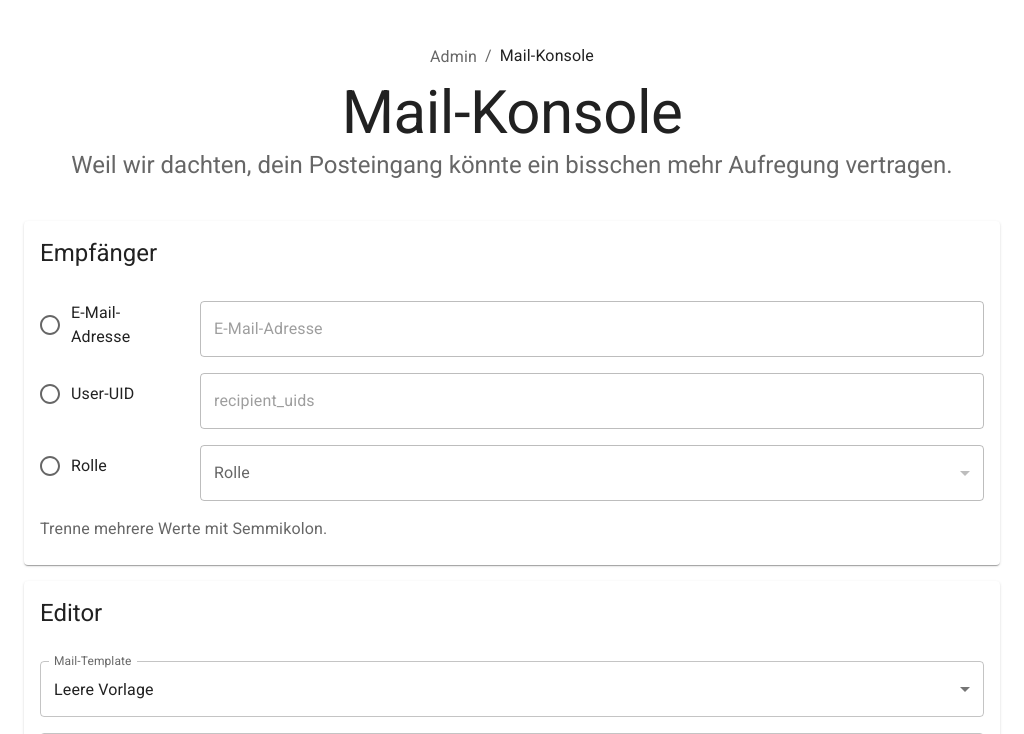
Test case: MailConsolePage — Abmelde-Footer und Titel › Bei einer Rolle ist die Checkbox gesperrt, bei E-Mail/UID wählbar
This screenshot has width=1024, height=734.
Click the radio button labelled "Rolle": (72,466) [38, 454, 107, 478]
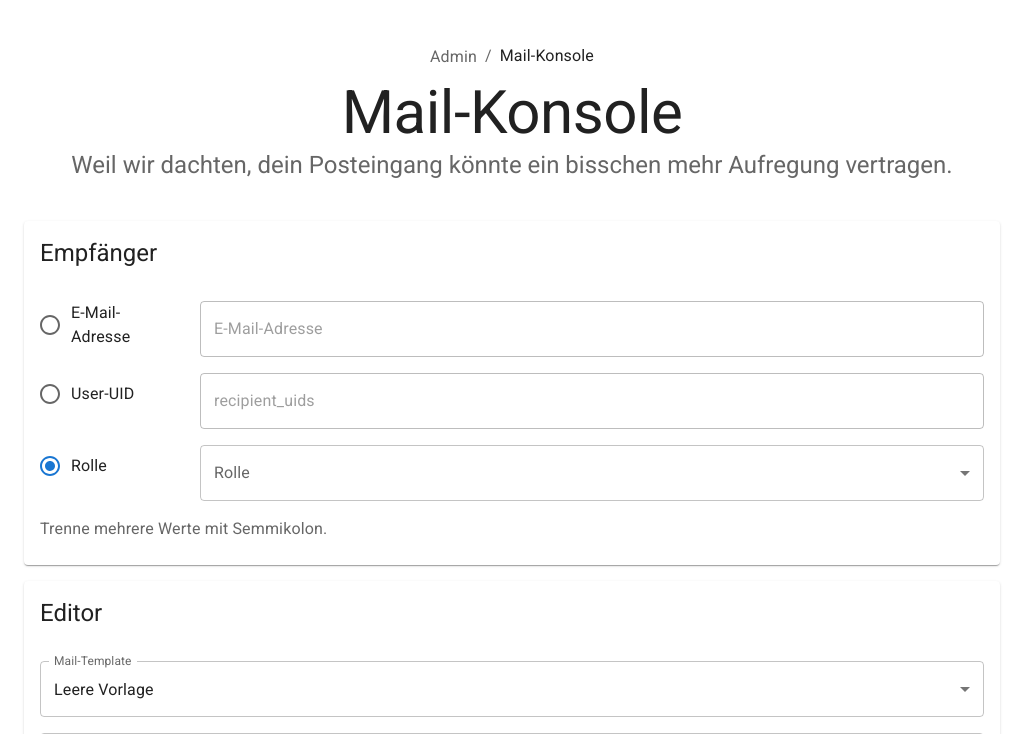
Click the radio button labelled "E-Mail-Adresse": (84,325) [38, 303, 130, 346]
(page scrolled)
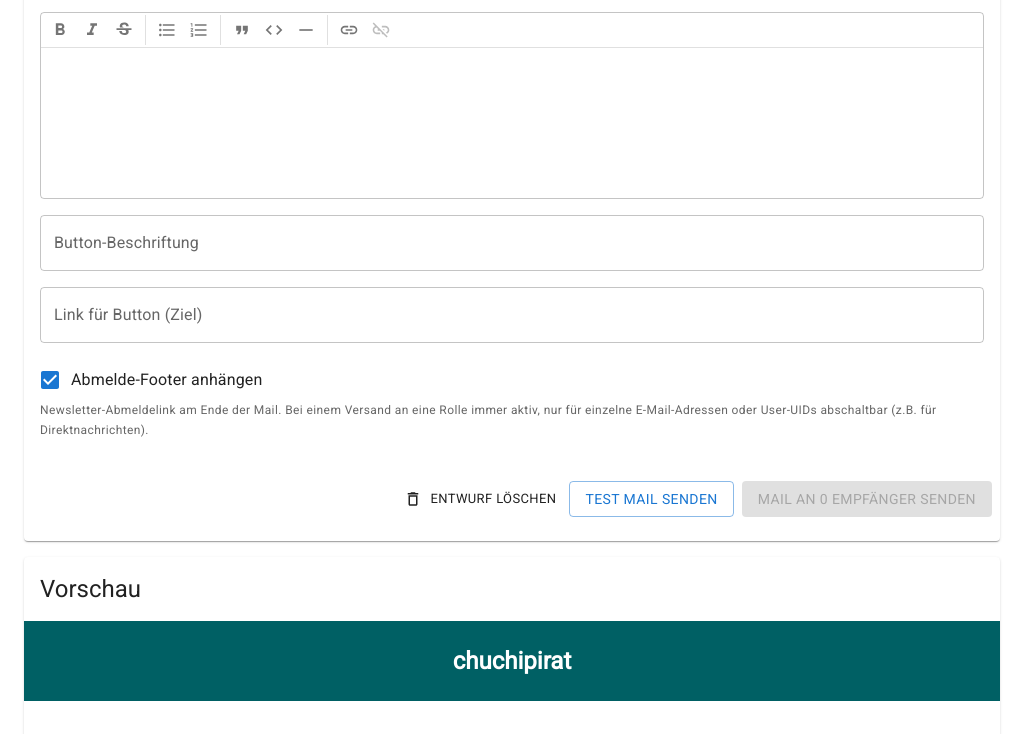
Check: the checkbox labelled "Abmelde-Footer anhängen" is enabled, box [38, 368, 262, 392]
